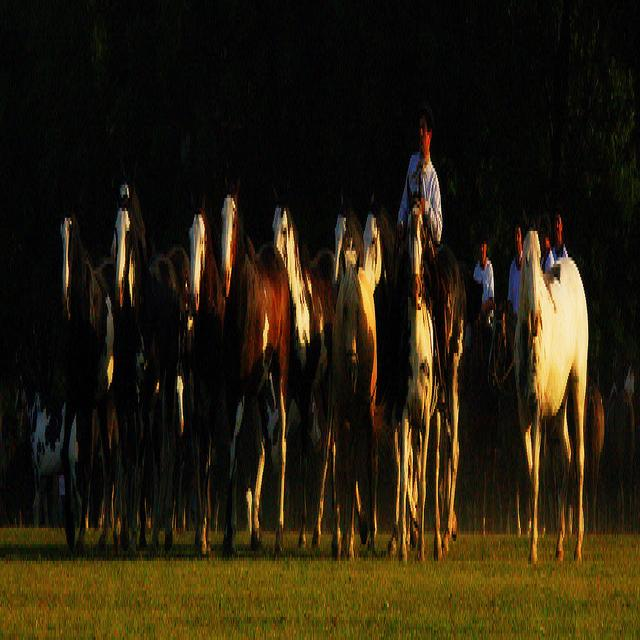horse: (217, 156, 295, 568), (116, 170, 188, 558), (396, 175, 466, 564), (273, 186, 342, 557), (516, 229, 589, 571), (61, 217, 115, 548), (359, 195, 402, 554), (188, 190, 228, 556), (334, 248, 378, 554), (488, 301, 531, 539), (333, 213, 358, 283)
person: (398, 104, 443, 242), (505, 216, 524, 328), (473, 216, 495, 304), (538, 211, 554, 273), (552, 209, 569, 260)
